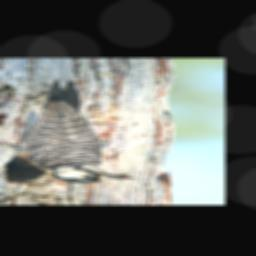Woodpecker: (0, 77, 137, 184)
